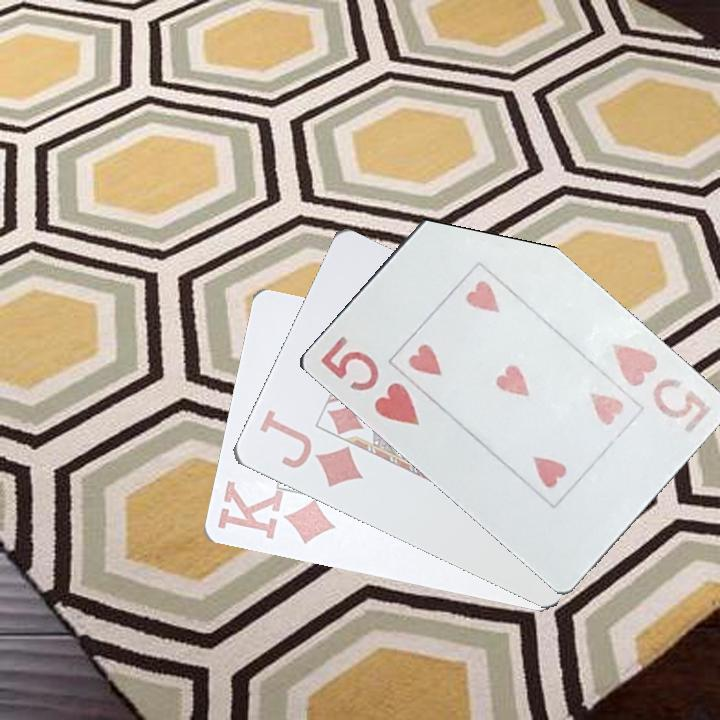5h: (606, 338, 714, 437), (316, 332, 422, 429)
Jd: (254, 408, 366, 490)
Kd: (213, 481, 338, 548)
